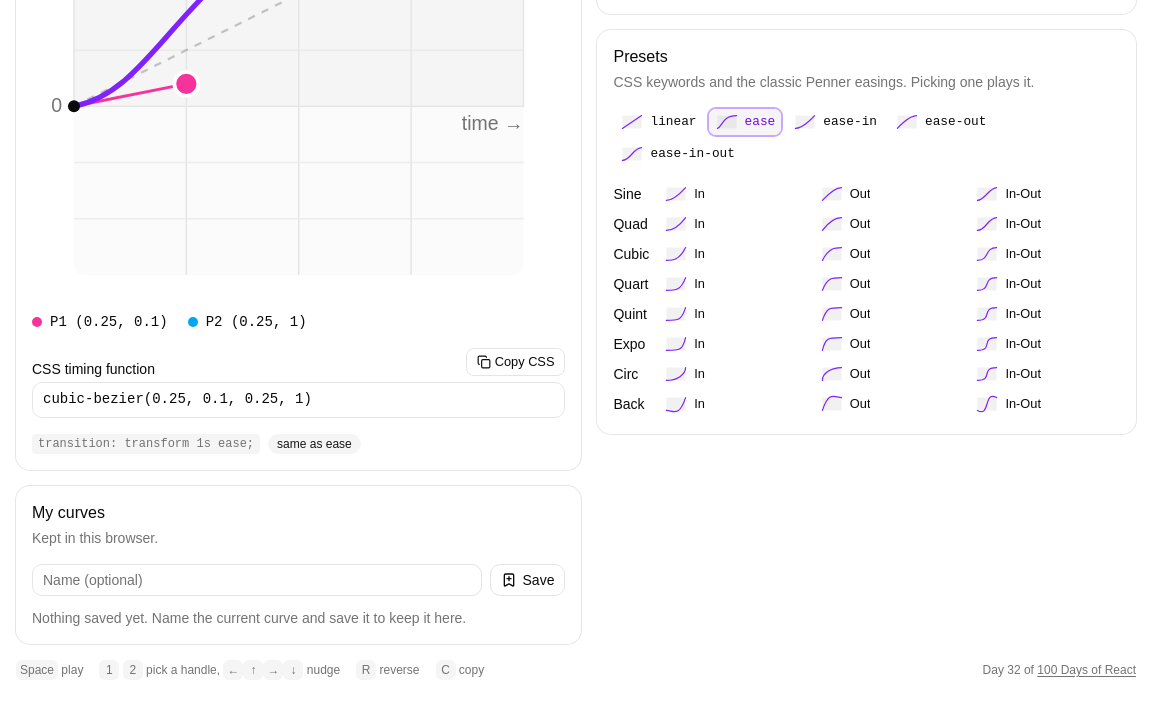
Scenario: copying › says so when the clipboard is unavailable
The width and height of the screenshot is (1152, 720).
(page scrolled)
Click the button "Copy CSS".
click(516, 362)  # box x1=466 y1=348 x2=566 y2=376
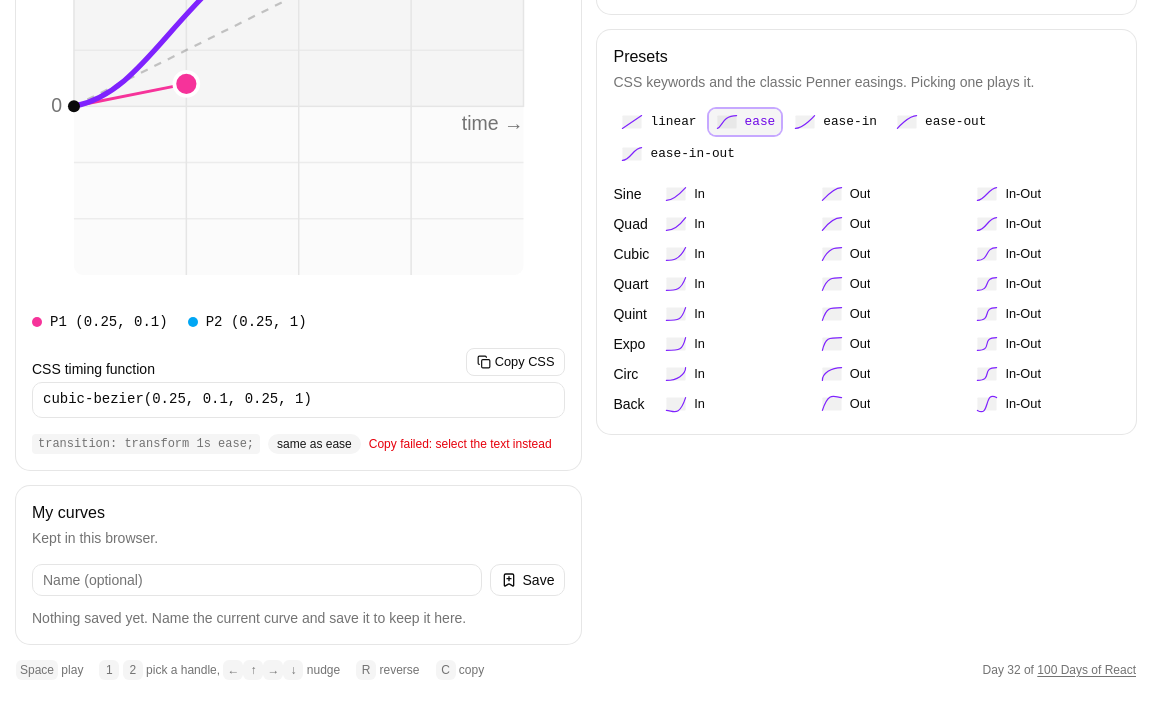
expect the message shows "Copy failed": met, box x1=369 y1=437 x2=552 y2=451
